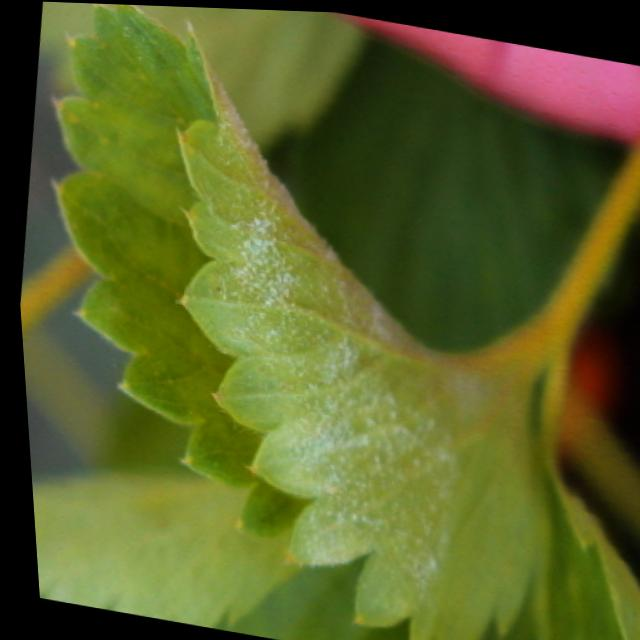Powdery Mildew Leaf: (47, 3, 545, 640)
